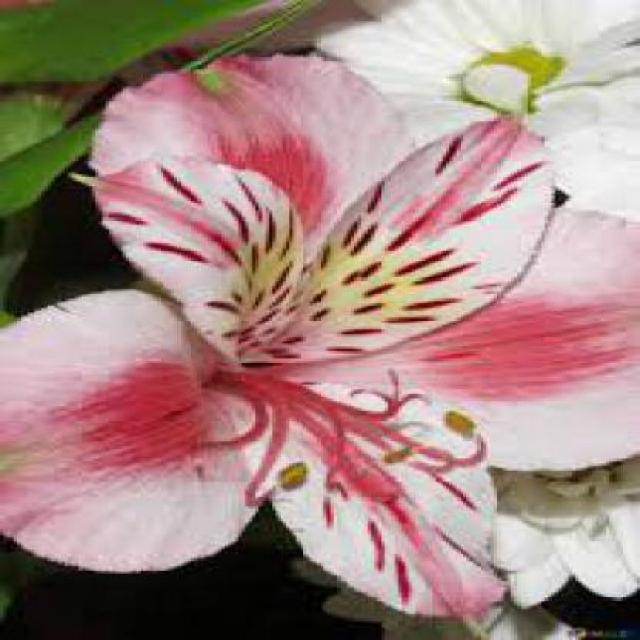Flower: (3, 53, 637, 639)
